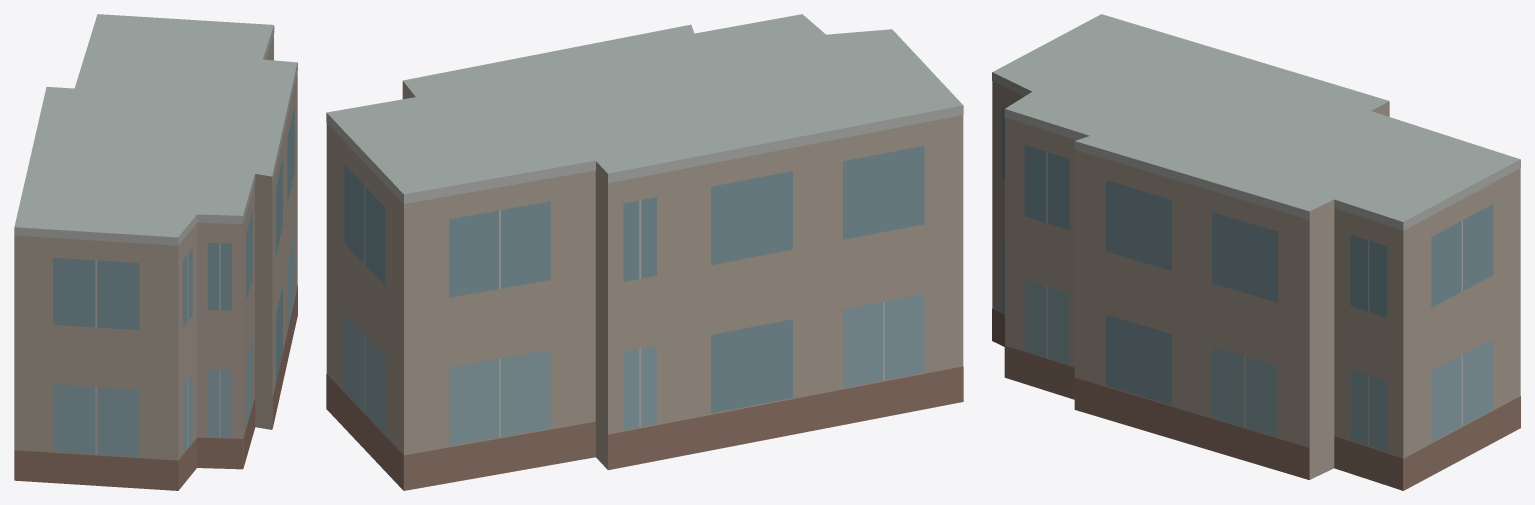
The model's file is survey-upis-32981708.glb.
3 renders of one model, left to right at view 1: azimuth 30°, elevation 25°; view 2: azimuth 150°, elevation 25°; view 3: azimuth 270°, elevation 25°, orthographic. The views are drawn at different scales.
Visible parts, largest first — view 1: survey-upis-32981708.tmp; view 2: survey-upis-32981708.tmp; view 3: survey-upis-32981708.tmp.
Part boxes in pixels (left/top/right/bottom): survey-upis-32981708.tmp: left=14, top=14, right=297, bottom=490; survey-upis-32981708.tmp: left=326, top=14, right=963, bottom=490; survey-upis-32981708.tmp: left=992, top=14, right=1520, bottom=490.
Size of the model in its own units: 12.47 by 7.5 by 13.38.
